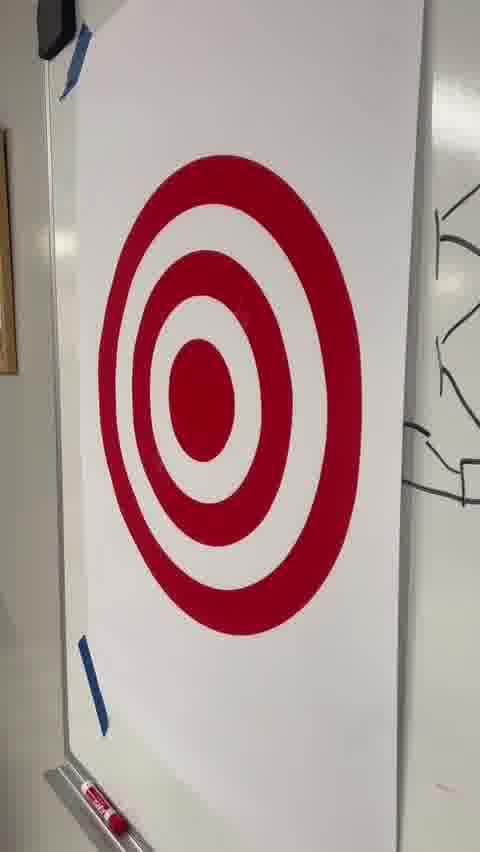target_red: (95, 153, 363, 636)
